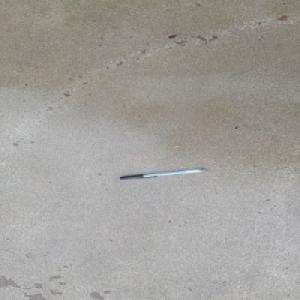Pen: (118, 167, 206, 180)
